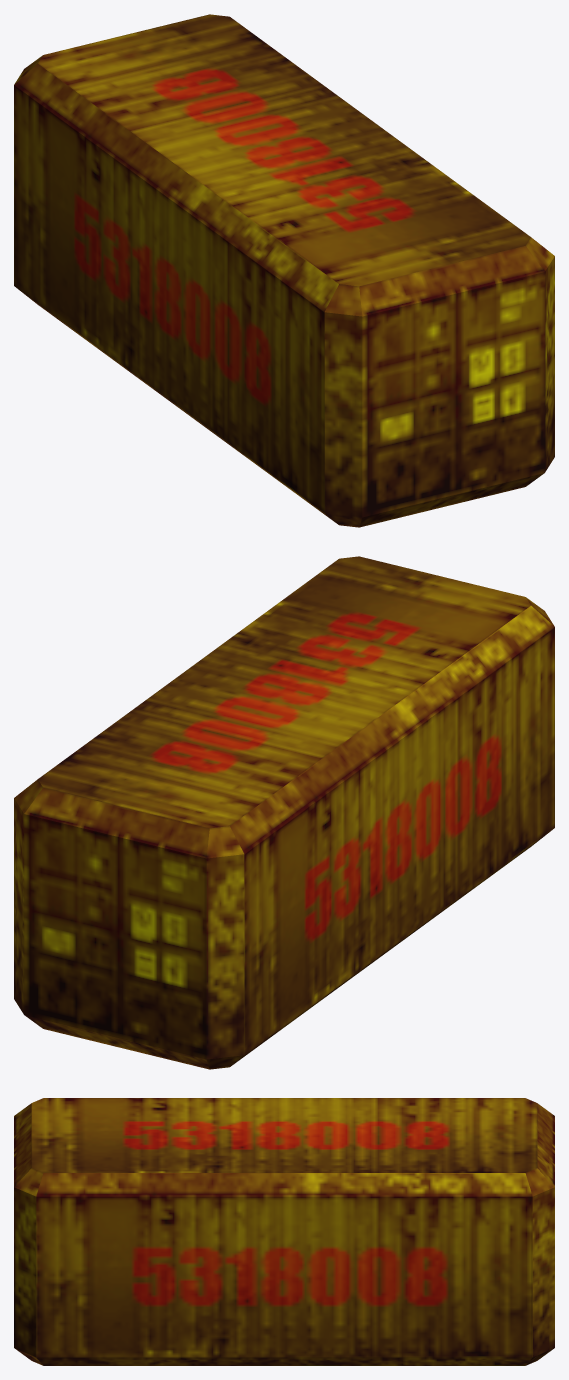
File: Container.fbx
3 views of the same model, one above another, from view 1: azimuth 30°, elevation 25°; view 2: azimuth 150°, elevation 25°; view 3: azimuth 270°, elevation 25° (orthographic). The views are drawn at different scales.
Visible parts, largest first — view 1: Container; view 2: Container; view 3: Container.
Boxes of the visible parts, x1,y1,x2,y2 form: Container: [14, 14, 554, 527]; Container: [14, 556, 554, 1069]; Container: [14, 1098, 554, 1365].
Size of the model in its own units: 240 by 240 by 610.
Materials: 1 (1 with a texture image).
